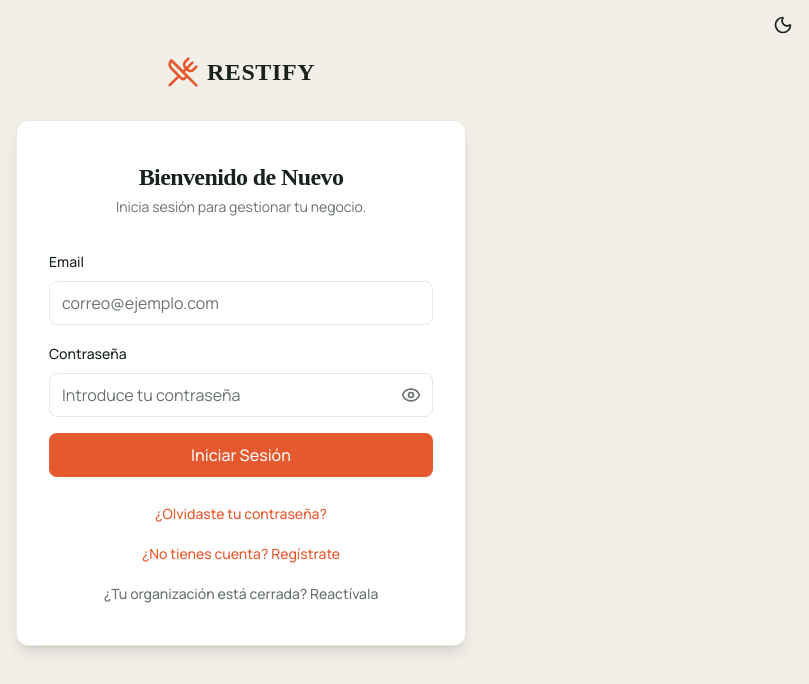
LoginPage › shows validation error when email is invalid
Type "not-an-email" into the field labelled "Email" at (241, 303), box x1=49 y1=281 x2=433 y2=325
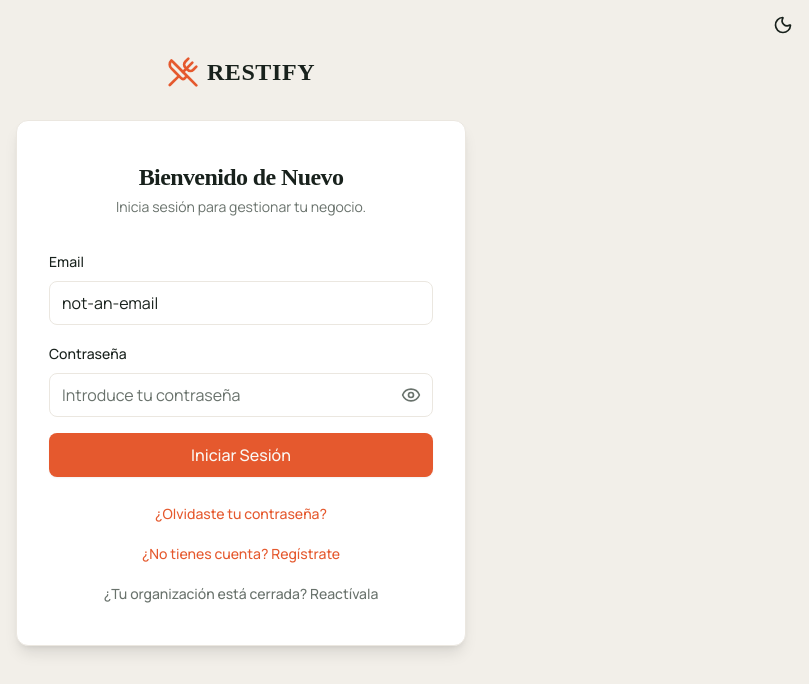
Type "password123" into the password field labelled "Contraseña" at (241, 395), box x1=49 y1=373 x2=433 y2=417
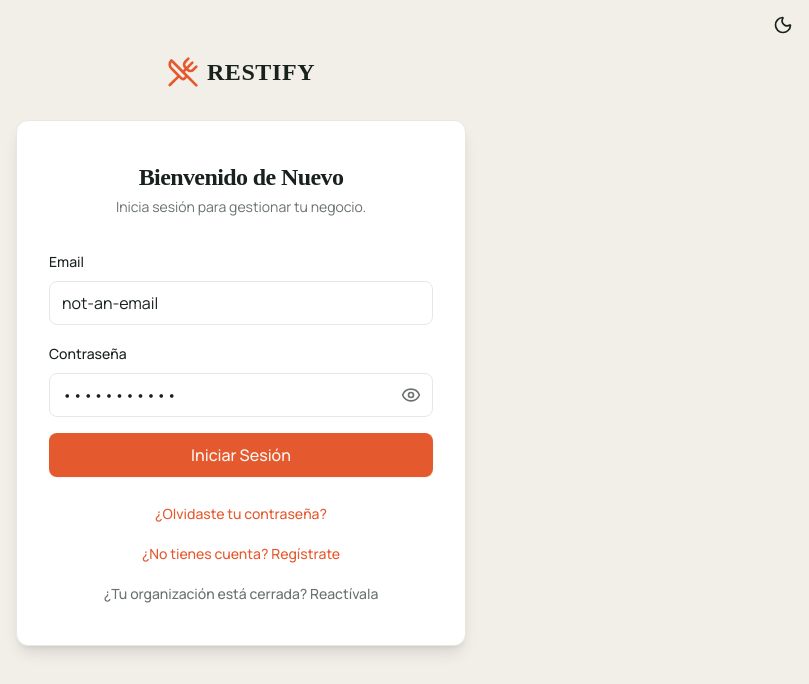
Submit the form labelled "Email", box x1=49 y1=249 x2=433 y2=605
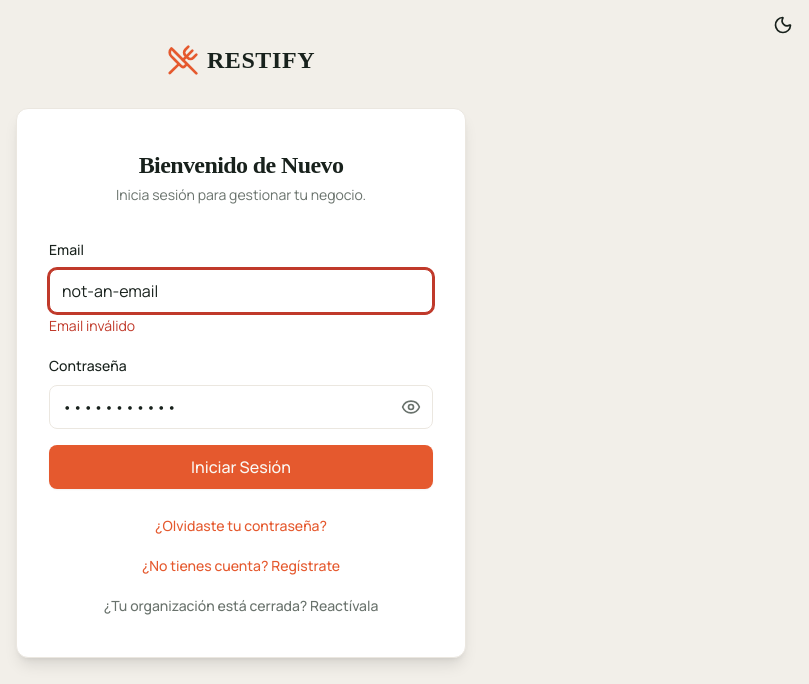
Check: the text "Email inválido" is shown, box x1=49 y1=316 x2=135 y2=335
